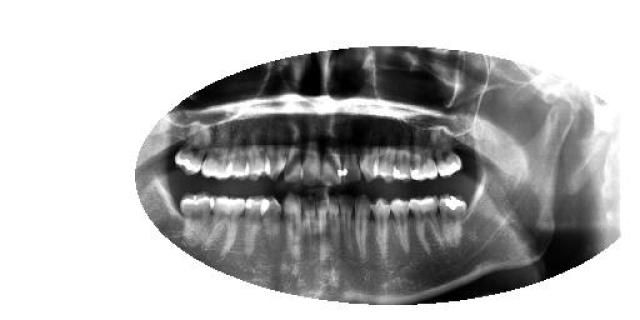Fillings: (408, 125, 438, 183), (438, 192, 468, 246), (432, 132, 462, 178)
